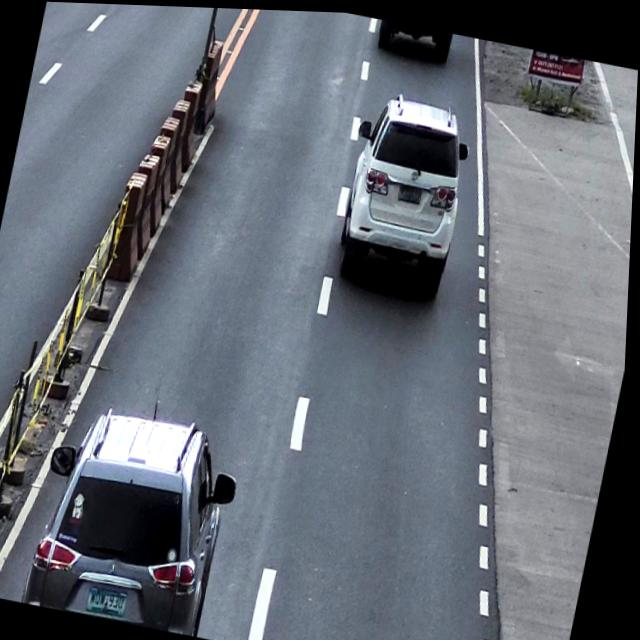Car: (26, 389, 254, 637), (330, 82, 481, 298)
License-Plate: (90, 582, 135, 616), (398, 178, 426, 204)
